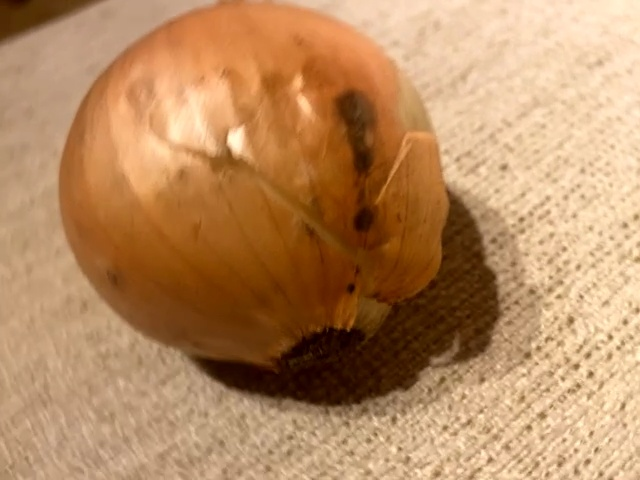onion: (43, 2, 450, 385)
